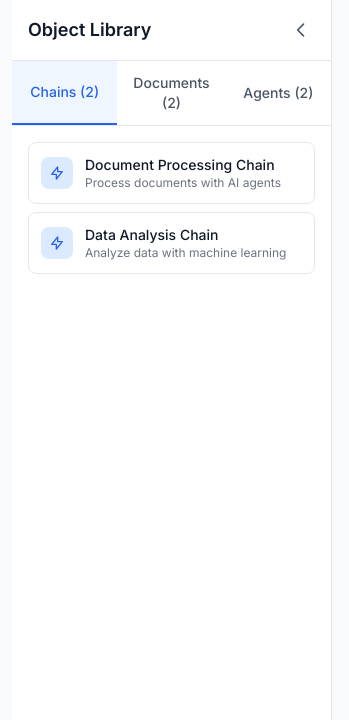
it: LeftSidebar › Section Navigation › switches to documents section when clicked
Click the button "Documents (2)": (171, 93) [117, 61, 226, 125]
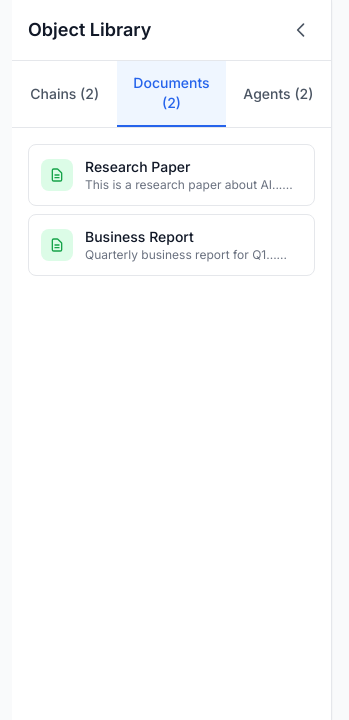
Expected: the heading "Research Paper" is shown, [85, 158, 190, 175]
Expected: the heading "Business Report" is shown, [85, 228, 194, 245]
Expected: the heading "Document Processing Chain" is gone
